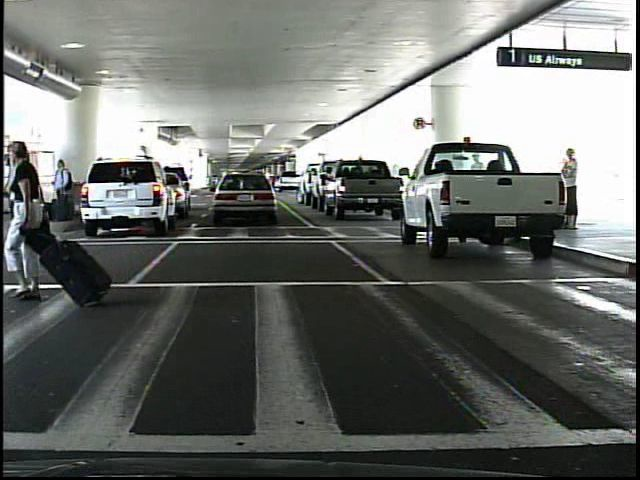person: (6, 142, 55, 290), (548, 148, 585, 230), (11, 152, 32, 226), (50, 157, 72, 223)
